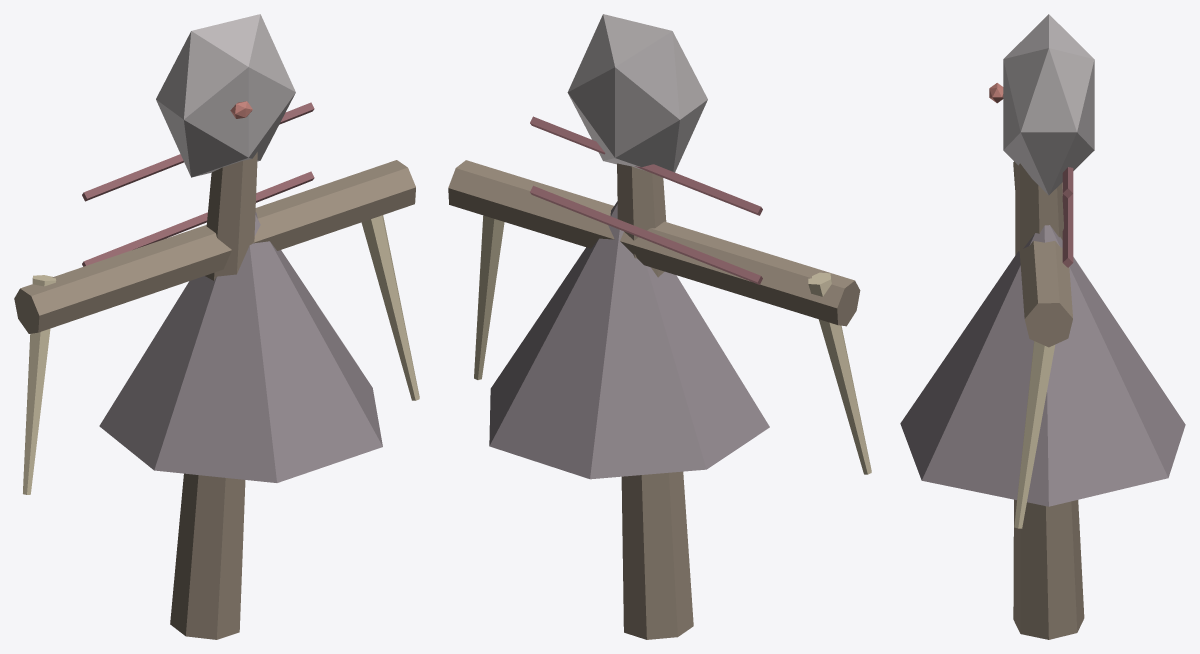
File: mourning_effigy.glb
3 views of the same model, side by side, from view 1: azimuth 30°, elevation 25°; view 2: azimuth 150°, elevation 25°; view 3: azimuth 270°, elevation 25° (orthographic).
Parts seen in each view (by area): view 1: mourning_effigy_material_02, mourning_effigy_material_00, mourning_effigy_material_01, mourning_effigy_material_03, mourning_effigy_material_04; view 2: mourning_effigy_material_02, mourning_effigy_material_00, mourning_effigy_material_01, mourning_effigy_material_03, mourning_effigy_material_04; view 3: mourning_effigy_material_02, mourning_effigy_material_00, mourning_effigy_material_01, mourning_effigy_material_03, mourning_effigy_material_04.
Boxes of the visible parts, <box> form: mourning_effigy_material_02: <box>99,212,382,482</box>; mourning_effigy_material_00: <box>14,152,415,639</box>; mourning_effigy_material_01: <box>156,14,295,177</box>; mourning_effigy_material_03: <box>23,215,419,494</box>; mourning_effigy_material_04: <box>82,102,314,266</box>; mourning_effigy_material_02: <box>489,201,769,479</box>; mourning_effigy_material_00: <box>448,160,860,639</box>; mourning_effigy_material_01: <box>567,14,707,172</box>; mourning_effigy_material_03: <box>474,215,871,474</box>; mourning_effigy_material_04: <box>530,116,762,284</box>; mourning_effigy_material_02: <box>900,225,1185,506</box>; mourning_effigy_material_00: <box>1013,161,1084,639</box>; mourning_effigy_material_01: <box>1003,14,1094,195</box>; mourning_effigy_material_03: <box>1014,341,1055,528</box>; mourning_effigy_material_04: <box>1062,167,1073,267</box>.
Bounding box in the file's own units: 1.21 × 1.74 × 0.7451.
